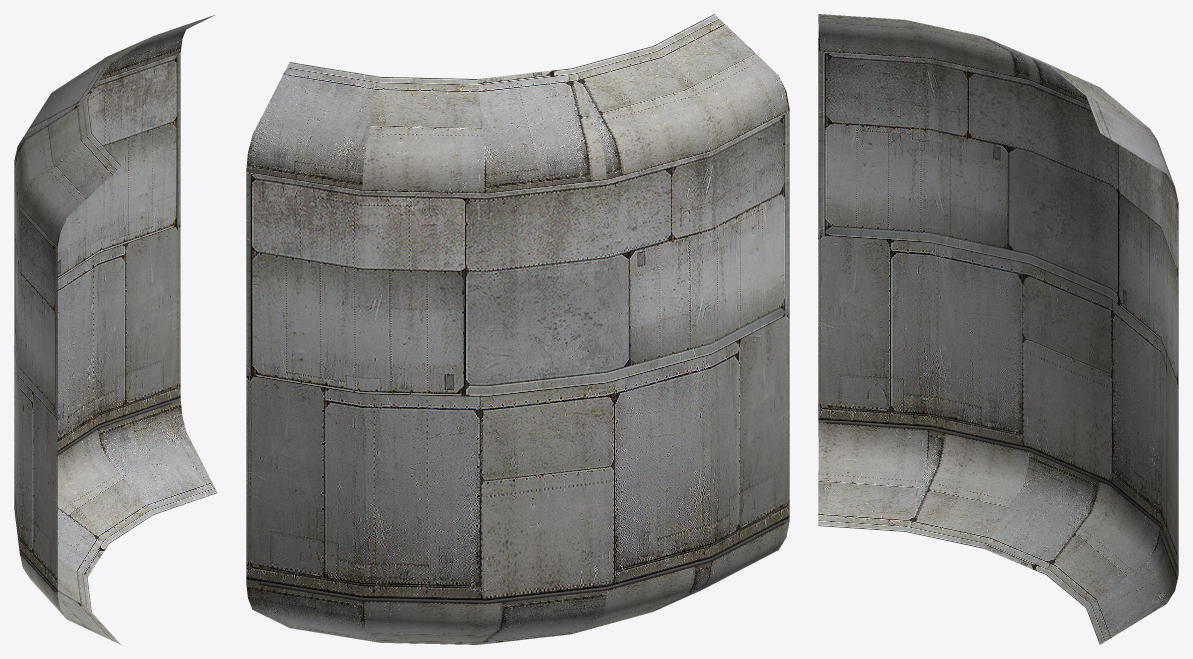
File: Wall_F_Big4mts_10.fbx
The picture shows the model from 3 angles, left to right: view 1: azimuth 30°, elevation 25°; view 2: azimuth 150°, elevation 25°; view 3: azimuth 270°, elevation 25°; orthographic projection. The views are drawn at different scales.
Parts seen in each view (by area): view 1: Wall_F_Big4mts_10; view 2: Wall_F_Big4mts_10; view 3: Wall_F_Big4mts_10.
Part boxes in pixels (x1,y1,x2,y2): Wall_F_Big4mts_10: (14,14,217,644); Wall_F_Big4mts_10: (246,14,789,644); Wall_F_Big4mts_10: (818,14,1178,644).
Size of the model in its own units: 637 by 1000 by 638.
